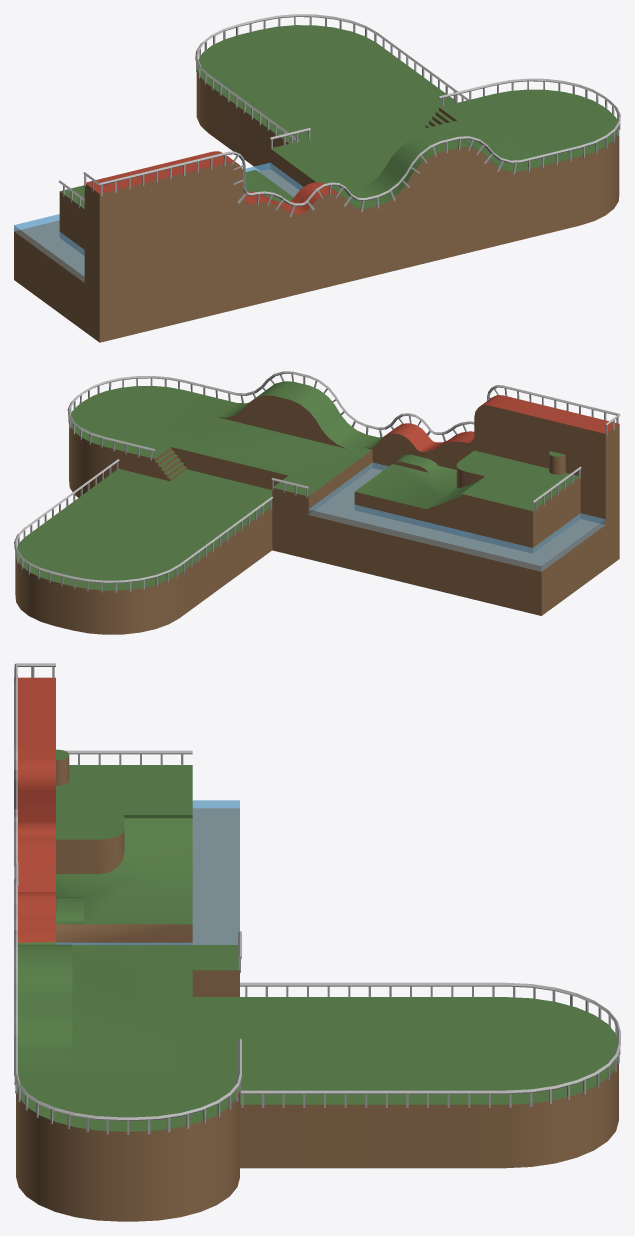
File: SM_Map.fbx
3 views of the same model, one above another, from view 1: azimuth 30°, elevation 25°; view 2: azimuth 150°, elevation 25°; view 3: azimuth 270°, elevation 25° (orthographic). The views are drawn at different scales.
Visible parts, largest first — view 1: SM_Map; view 2: SM_Map; view 3: SM_Map.
Boxes of the visible parts, x1,y1,x2,y2 form: SM_Map: (14, 14, 620, 342); SM_Map: (14, 371, 620, 634); SM_Map: (14, 663, 620, 1221).
Size of the model in its own units: 60.55 by 16.74 by 44.18.
